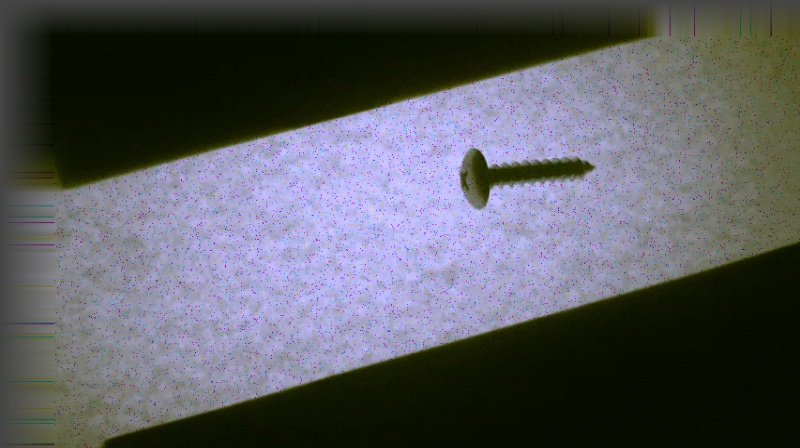S003: (456, 146, 599, 211)
